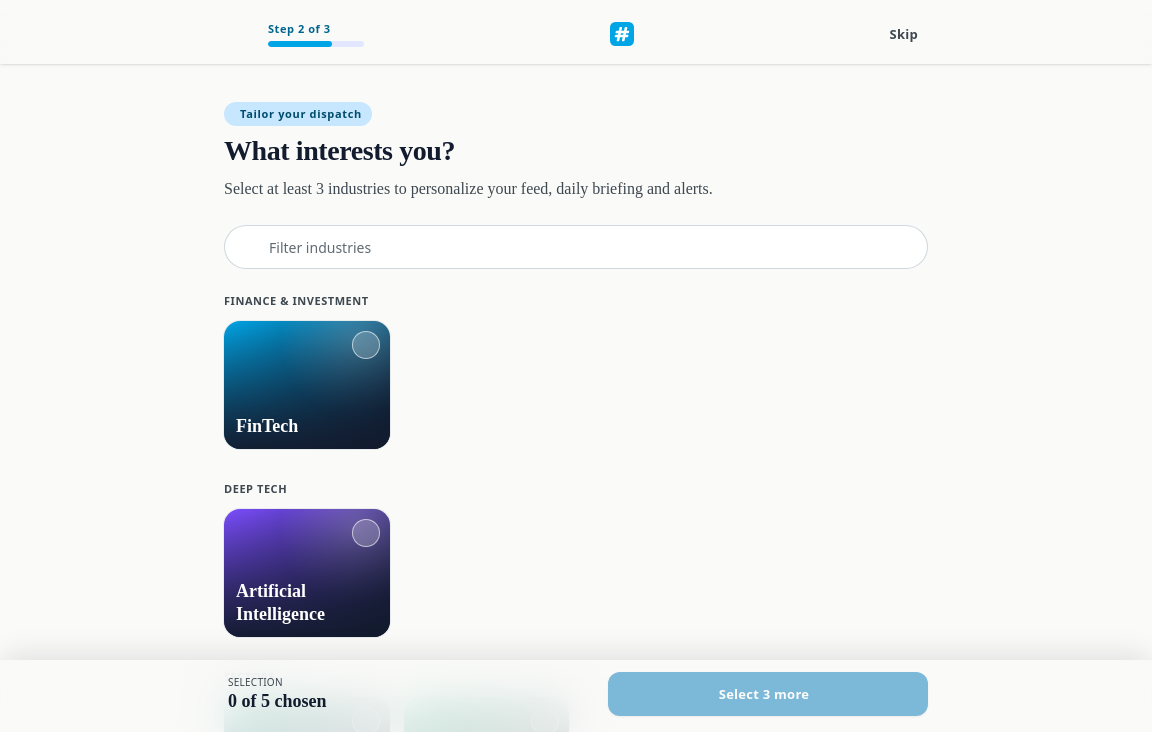
filters industries without accents
Type "mari" into the search field with placeholder "Filter industries" at (576, 247), box [224,225,928,269]
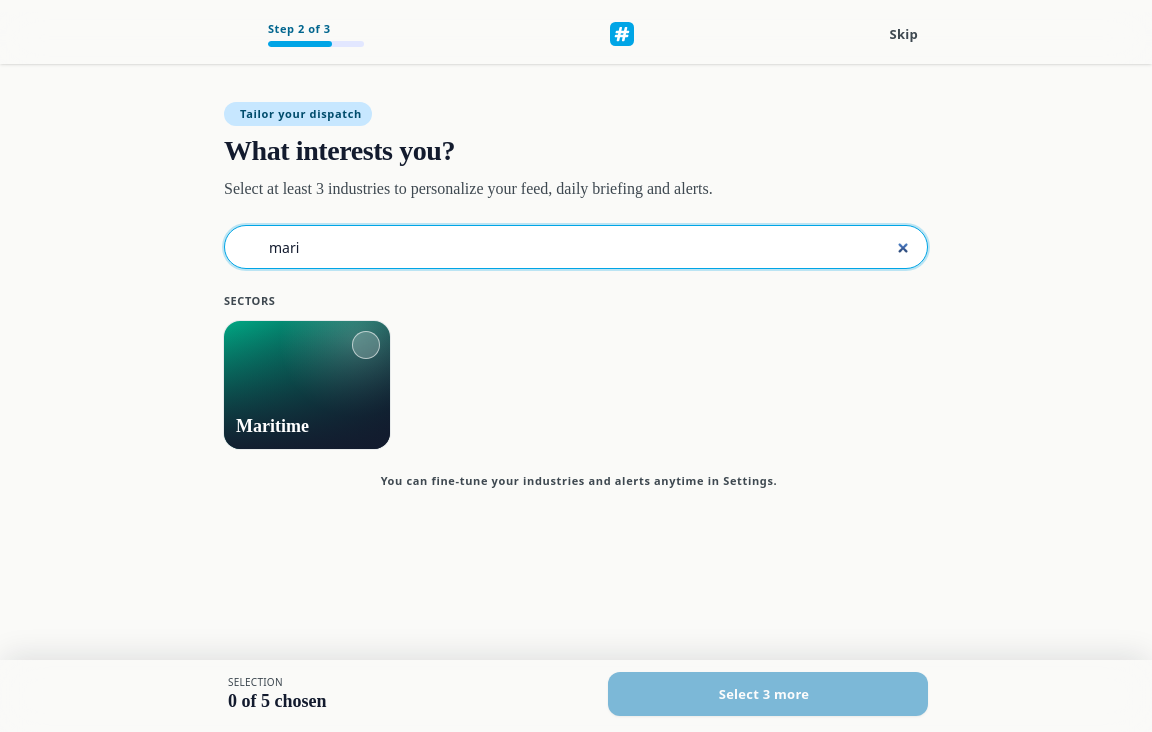
Check: the button "Maritime" is shown, box [224,321,390,449]
Check: the button "FinTech" is gone
